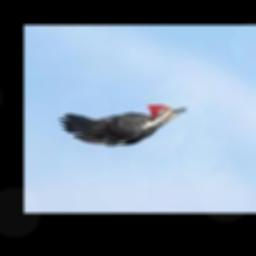Woodpecker: (57, 104, 186, 145)
